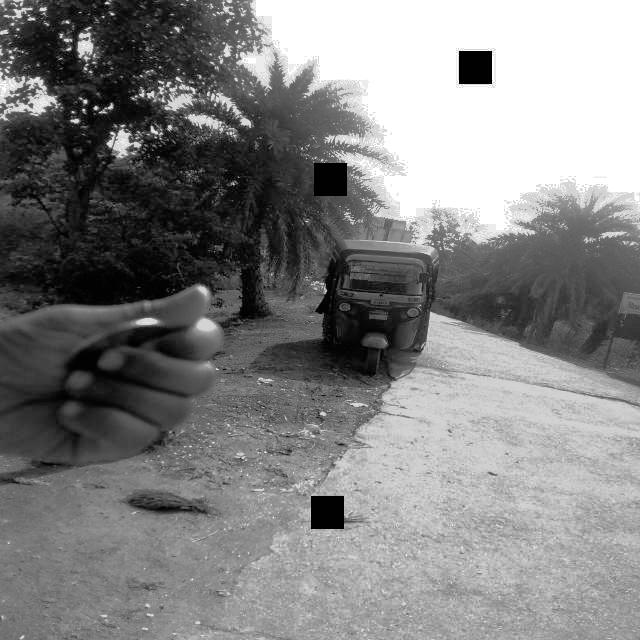Auto-Rickshaw: (316, 232, 435, 383)
